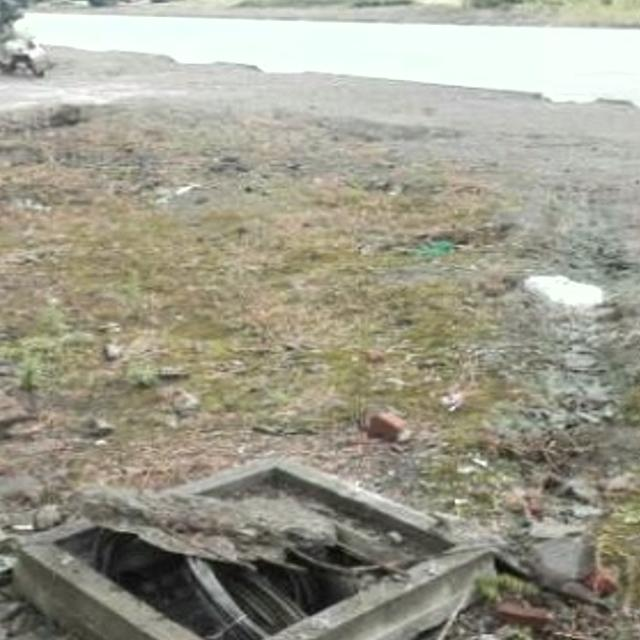broke: (15, 452, 496, 640)
